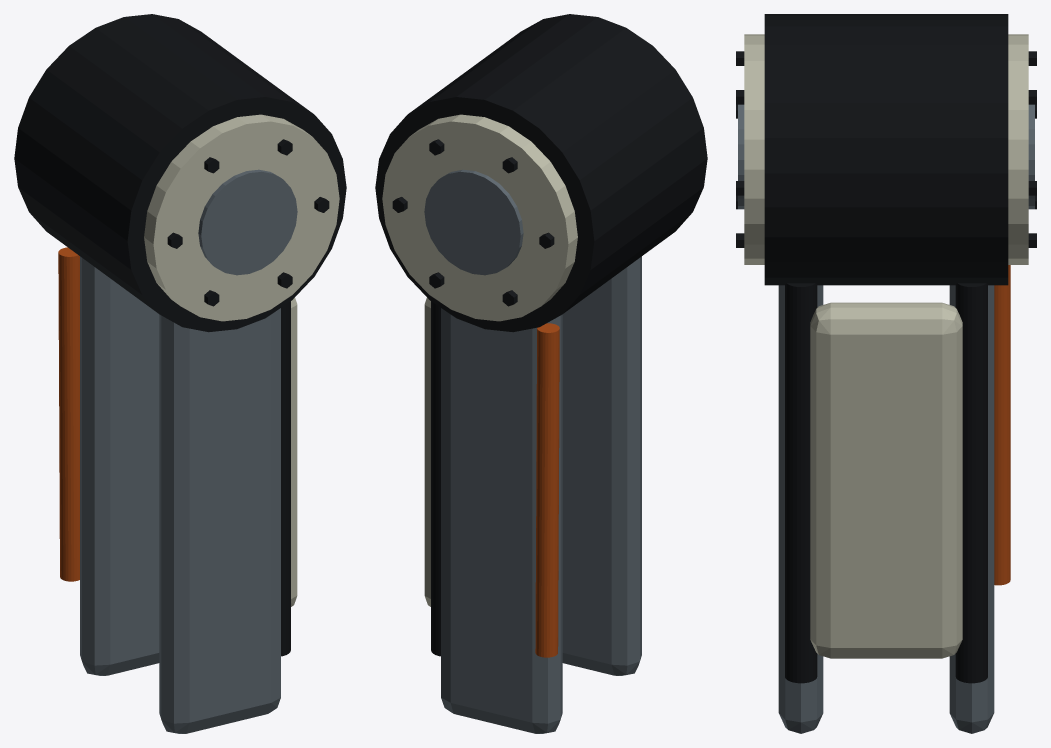
Rendered from left_thigh_link.dae.
3 views of the same model, side by side, from view 1: azimuth 30°, elevation 25°; view 2: azimuth 150°, elevation 25°; view 3: azimuth 270°, elevation 25° (orthographic). The views are drawn at different scales.
Parts seen in each view (by area): view 1: mesh17-node, mesh0-node, mesh19-node, mesh1-node, mesh2-node, mesh22-node, mesh18-node, mesh21-node; view 2: mesh0-node, mesh19-node, mesh17-node, mesh9-node, mesh10-node, mesh22-node, mesh20-node, mesh21-node; view 3: mesh0-node, mesh21-node, mesh18-node, mesh20-node, mesh17-node, mesh19-node, mesh22-node, mesh1-node, mesh9-node, mesh2-node, mesh10-node.
Boxes of the visible parts, left/top/right/bottom form: mesh17-node: left=159, top=308, right=280, bottom=733; mesh0-node: left=14, top=14, right=346, bottom=332; mesh19-node: left=80, top=256, right=159, bottom=675; mesh1-node: left=144, top=114, right=339, bottom=321; mesh2-node: left=198, top=169, right=297, bottom=275; mesh22-node: left=58, top=247, right=79, bottom=581; mesh18-node: left=281, top=301, right=290, bottom=656; mesh21-node: left=291, top=297, right=297, bottom=606; mesh0-node: left=375, top=14, right=707, bottom=332; mesh19-node: left=441, top=308, right=562, bottom=733; mesh17-node: left=562, top=256, right=641, bottom=675; mesh9-node: left=382, top=114, right=577, bottom=321; mesh10-node: left=424, top=169, right=523, bottom=275; mesh22-node: left=535, top=323, right=559, bottom=657; mesh20-node: left=431, top=301, right=440, bottom=656; mesh21-node: left=424, top=297, right=430, bottom=606; mesh0-node: left=764, top=14, right=1008, bottom=285; mesh21-node: left=810, top=302, right=962, bottom=658; mesh18-node: left=785, top=283, right=817, bottom=683; mesh20-node: left=955, top=283, right=987, bottom=683; mesh17-node: left=778, top=285, right=823, bottom=733; mesh19-node: left=949, top=285, right=994, bottom=733; mesh22-node: left=994, top=265, right=1010, bottom=585; mesh1-node: left=744, top=34, right=764, bottom=264; mesh9-node: left=1008, top=34, right=1028, bottom=264; mesh2-node: left=738, top=104, right=744, bottom=209; mesh10-node: left=1028, top=104, right=1034, bottom=209.
Size of the model in its own units: 0.134 by 0.148 by 0.372.
